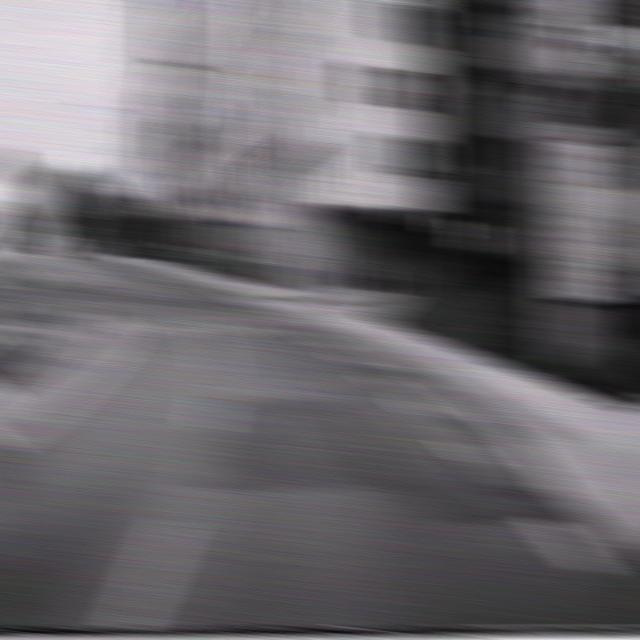stop: (52, 177, 93, 218), (380, 186, 418, 226)
